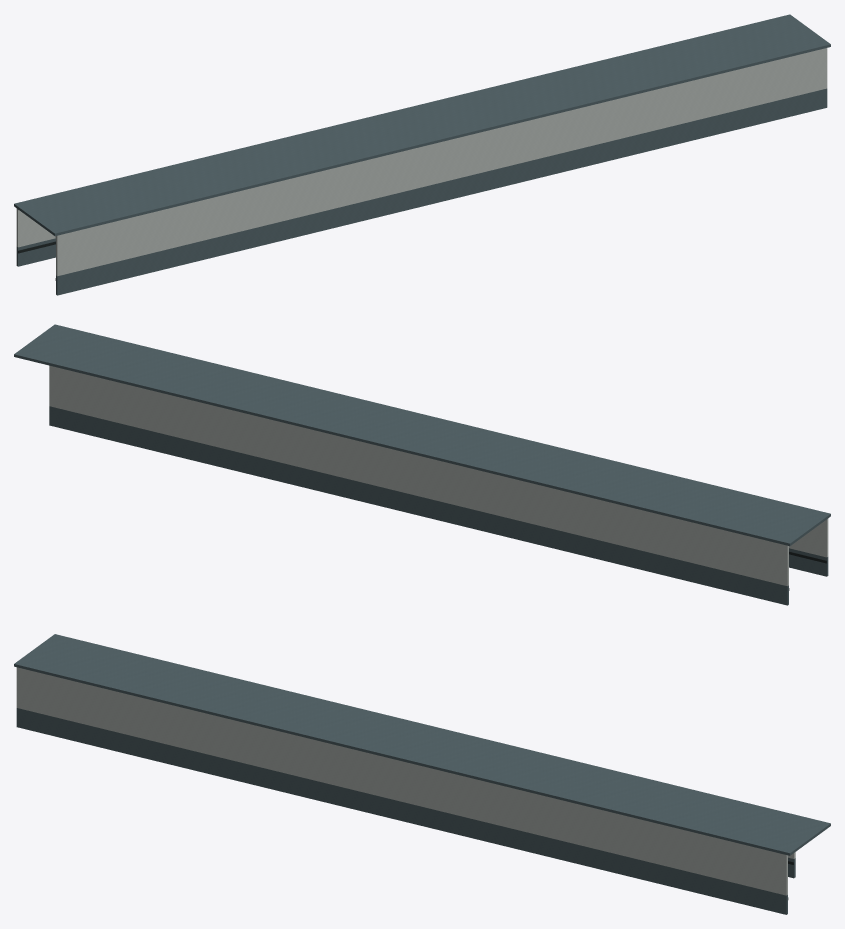
File: AST-STF-G3-016.glb
3 views of the same model, one above another, from view 1: azimuth 30°, elevation 25°; view 2: azimuth 150°, elevation 25°; view 3: azimuth 330°, elevation 25° (orthographic).
Parts seen in each view (by area): view 1: overhead_staff_bluegrey_paint_care_branch, screen_wall_staff_white_paint_care_branch, screen_wall_staff_bluegrey_paint_care_branch; view 2: overhead_staff_bluegrey_paint_care_branch, screen_wall_staff_white_paint_care_branch, screen_wall_staff_bluegrey_paint_care_branch; view 3: overhead_staff_bluegrey_paint_care_branch, screen_wall_staff_white_paint_care_branch, screen_wall_staff_bluegrey_paint_care_branch.
Part boxes in pixels (bbox=[...]): overhead_staff_bluegrey_paint_care_branch: bbox=[14, 14, 830, 236]; screen_wall_staff_white_paint_care_branch: bbox=[16, 48, 827, 276]; screen_wall_staff_bluegrey_paint_care_branch: bbox=[16, 88, 827, 295]; overhead_staff_bluegrey_paint_care_branch: bbox=[14, 324, 830, 546]; screen_wall_staff_white_paint_care_branch: bbox=[49, 365, 828, 586]; screen_wall_staff_bluegrey_paint_care_branch: bbox=[49, 406, 828, 605]; overhead_staff_bluegrey_paint_care_branch: bbox=[14, 634, 830, 855]; screen_wall_staff_white_paint_care_branch: bbox=[16, 667, 795, 895]; screen_wall_staff_bluegrey_paint_care_branch: bbox=[16, 708, 795, 914].
Size of the model in its own units: 43.38 by 3.34 by 3.96.
5 materials, 5 textured.
